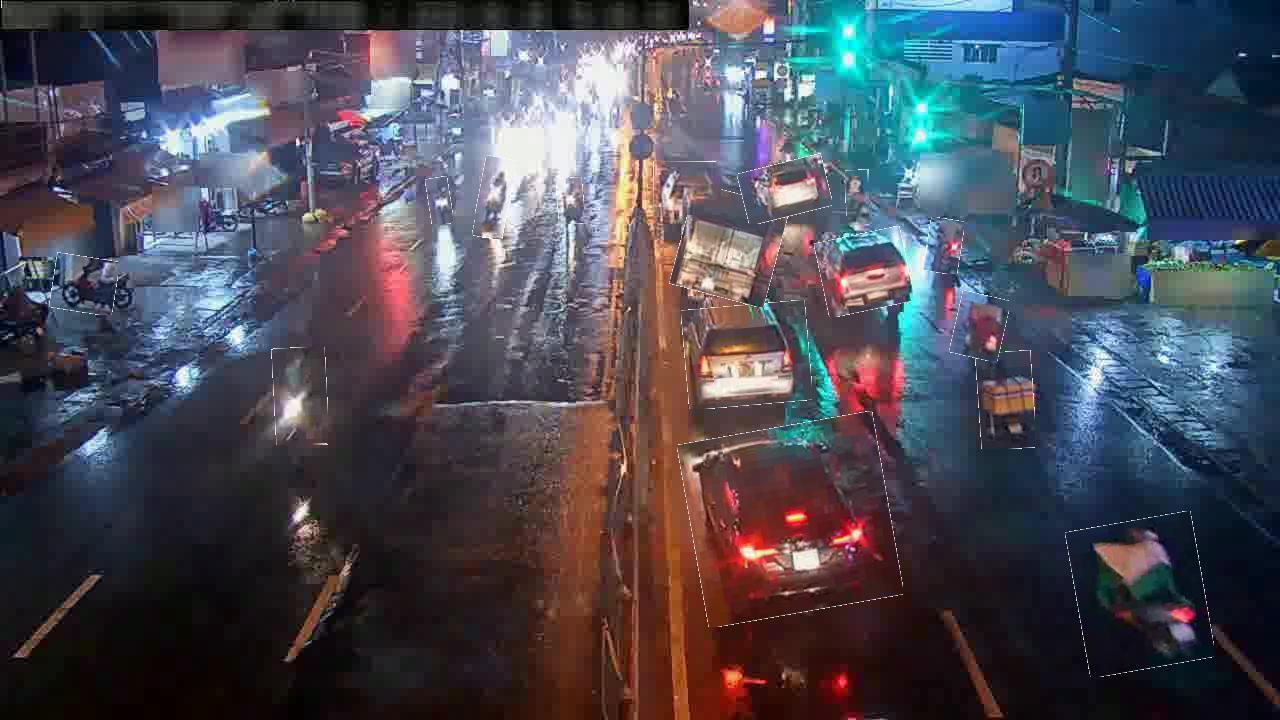8: (675, 189, 784, 303)
container: (685, 419, 897, 621), (683, 302, 811, 408), (818, 230, 911, 314), (740, 158, 831, 221), (653, 162, 722, 216)
motorbike: (1071, 516, 1210, 674), (977, 351, 1035, 450), (273, 348, 328, 446), (51, 255, 118, 314), (952, 293, 1007, 360), (476, 156, 514, 239), (925, 218, 963, 274), (557, 178, 585, 225), (427, 177, 453, 225), (846, 170, 870, 217)
